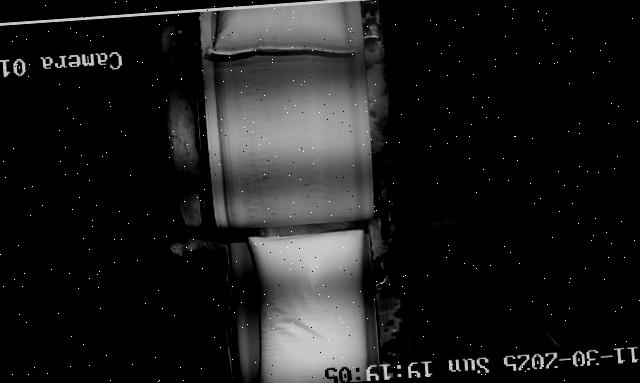bag: (242, 228, 373, 383), (206, 0, 352, 61)
